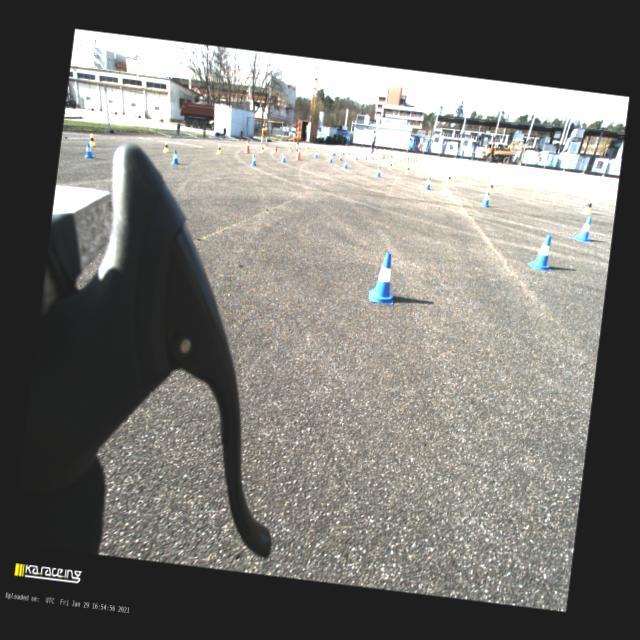blue_cone: (367, 250, 399, 305), (526, 232, 556, 271), (573, 215, 594, 242), (479, 190, 492, 208), (84, 142, 95, 158), (170, 149, 180, 164), (422, 176, 432, 190), (374, 165, 382, 177), (250, 154, 257, 166), (281, 152, 287, 163), (342, 158, 348, 168), (328, 154, 334, 162), (313, 150, 318, 158), (363, 152, 368, 160), (354, 152, 358, 160), (338, 154, 343, 160), (370, 152, 374, 158), (346, 148, 349, 154), (342, 149, 344, 155), (380, 153, 382, 159)
large_orange_cone: (244, 139, 252, 153), (295, 146, 302, 160)
orange_cone: (409, 156, 412, 162), (406, 156, 408, 162), (413, 156, 415, 162), (416, 156, 418, 162), (383, 153, 385, 158), (382, 154, 384, 159), (390, 154, 392, 158), (386, 154, 388, 158)
yellow_cone: (580, 197, 592, 214), (162, 140, 170, 152), (445, 172, 452, 184), (89, 134, 96, 146), (488, 181, 494, 193), (216, 144, 222, 154), (404, 166, 410, 173), (388, 161, 392, 169), (260, 144, 264, 152), (288, 144, 292, 152), (392, 160, 396, 167), (395, 158, 398, 164), (402, 156, 405, 162), (308, 145, 310, 151), (399, 158, 401, 164), (318, 145, 320, 150), (306, 146, 308, 150)
